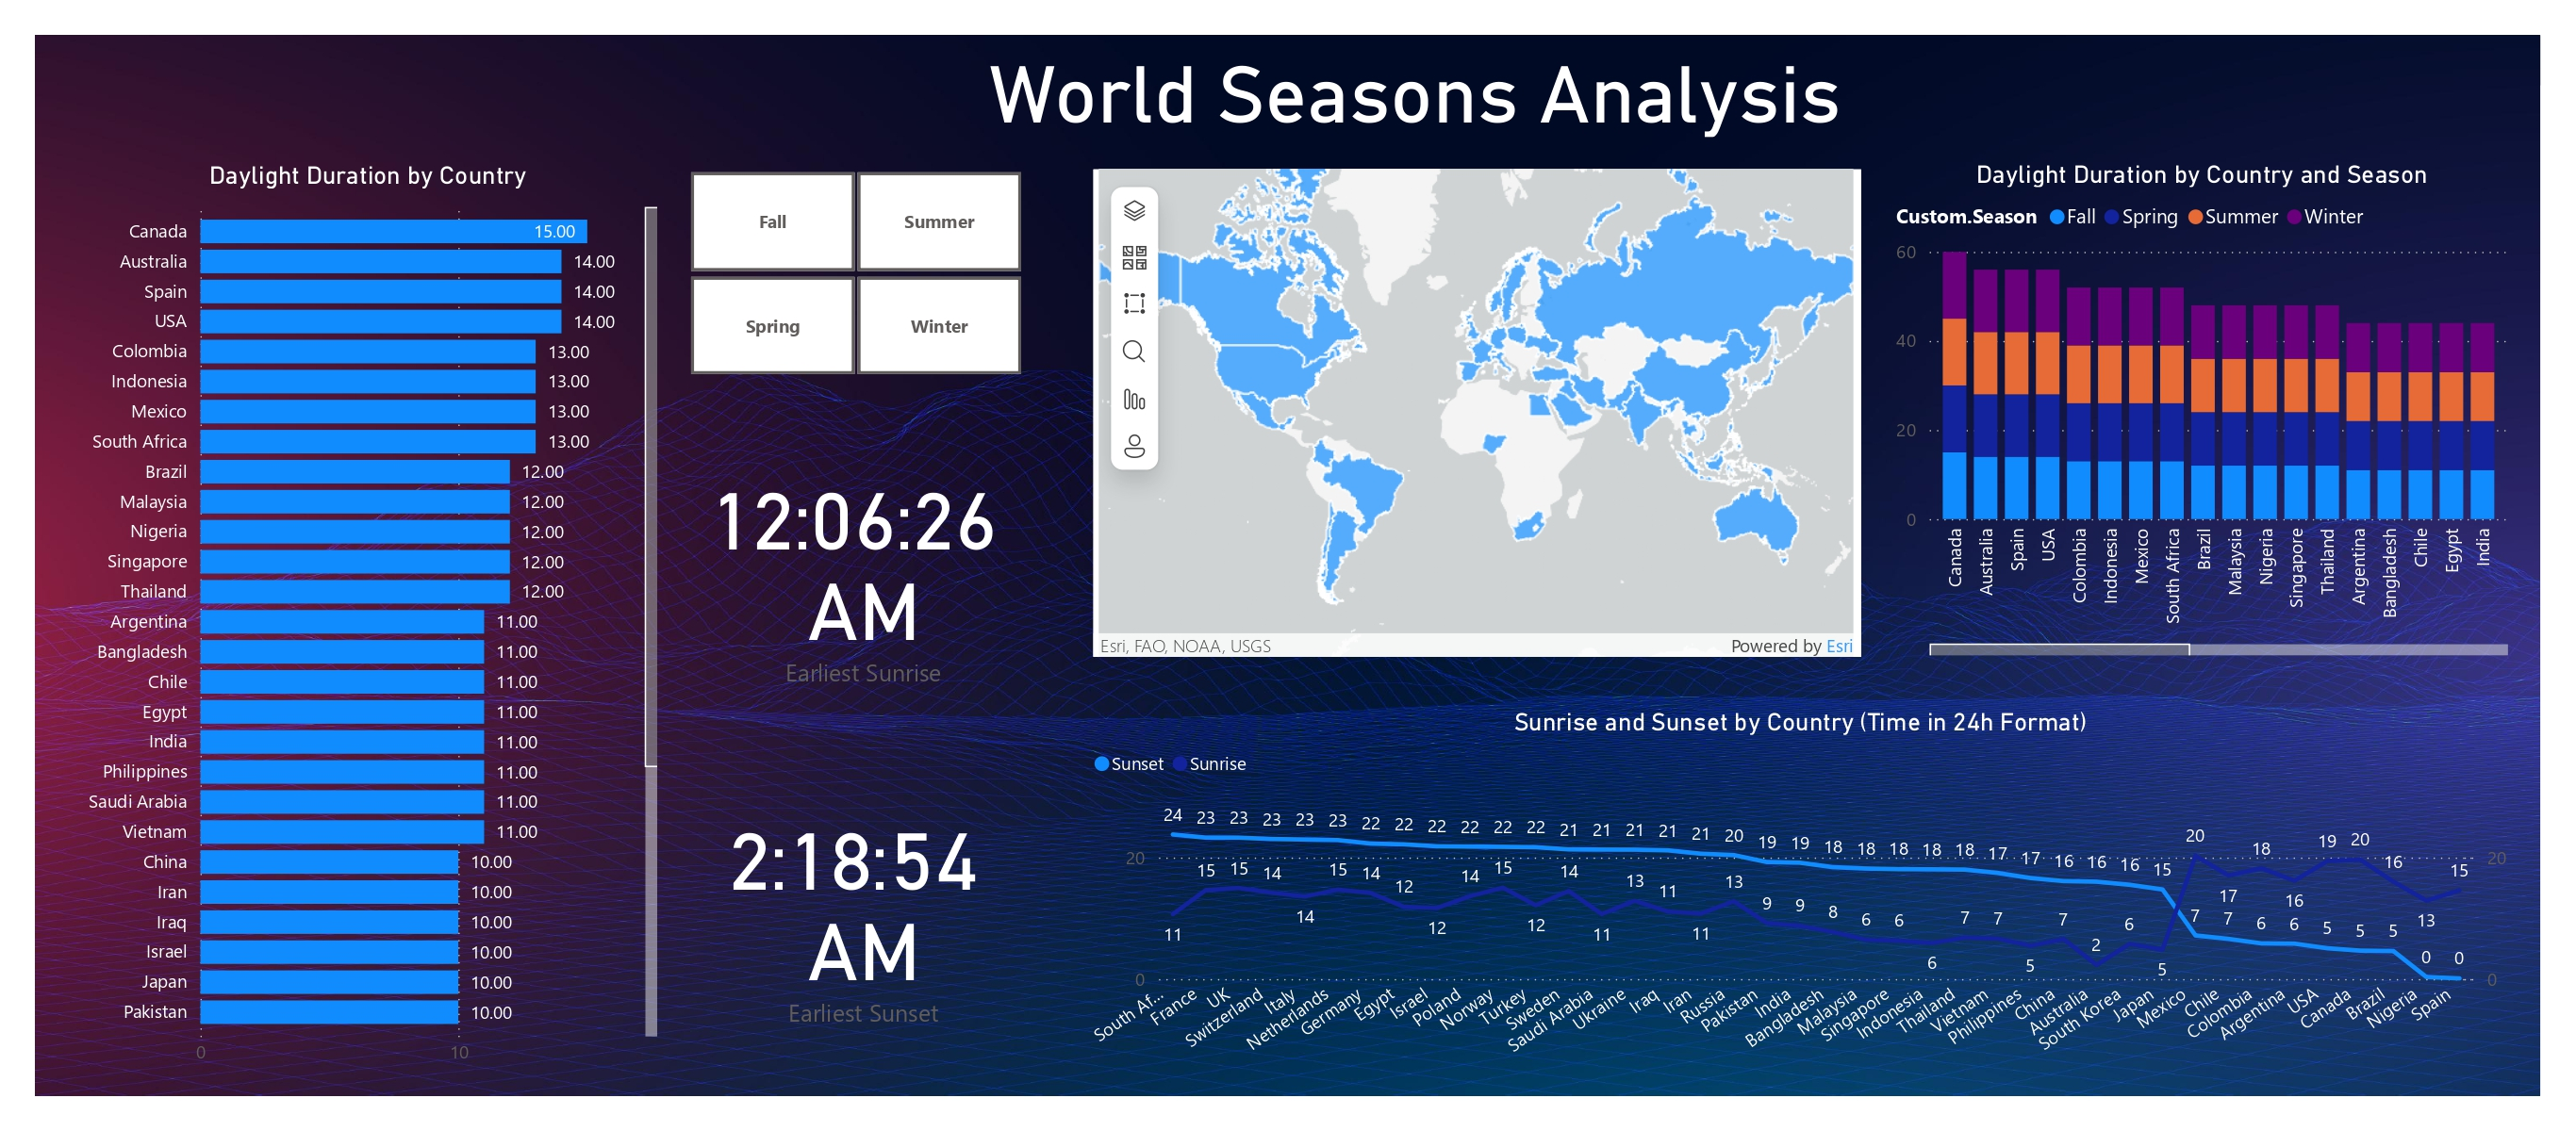

This screenshot's page, from the dashboard's own definition file:
{"tool":"powerbi","page":{"name":"Dashboard","canvas":[1700,720],"ordinal":0},"visuals":[{"type":"barChart","title":"Daylight Duration by Country","fields":{"Category":["Sheet1.Country"],"Y":["Avg(Sheet1.Daylight Duration)"]},"box":[24.5,84.5,402.2,624.5],"z":0},{"type":"lineChart","title":"Sunrise and Sunset by Country (Time in 24h Format)","fields":{"Category":["Sheet1.Country"],"Y":["Avg(Sheet1.SunriseDecimal)"],"Y2":["Avg(Sheet1.SunsetDecimal)"]},"box":[712.6,455.6,969.6,253.3],"z":1000},{"type":"columnChart","title":"Daylight Duration by Country and Season","fields":{"Category":["Sheet1.Country"],"Y":["Avg(Sheet1.Daylight Duration)"],"Series":["Sheet1.Custom.Season"]},"box":[1258.3,84.4,424.3,341.2],"z":2000},{"type":"esriVisual","fields":{"Location":["CountryTable.Country"]},"box":[712.9,85.6,530.7,341.2],"z":5000},{"type":"slicer","title":"Seasons","fields":{"Values":["Sheet1.Custom.Season"]},"box":[419.2,85.7,273.4,151.3],"z":5001},{"type":"card","fields":{"Values":["Min(MianTable.Sunrise)"]},"box":[426.5,271.5,271.5,184.1],"z":5002},{"type":"card","fields":{"Values":["Min(MianTable.Sunset)"]},"box":[426.5,481.1,271.5,227.8],"z":5003},{"type":"card","fields":{"Values":["Min(MianTable.DashboardTitle)"]},"box":[613.1,13.9,645.5,60.2],"z":5005}]}

Visuals, with their boxes on the page's 1700x720 design canvas (x1, y1, x2, y2). These are canvas units, not pixel positions in the 2576x1131 screenshot, which may show the page scaled, cropped or inside an application window:
"Daylight Duration by Country" barChart: {"left": 24, "top": 84, "right": 427, "bottom": 709}
"Sunrise and Sunset by Country (Time in 24h Format)" lineChart: {"left": 713, "top": 456, "right": 1682, "bottom": 709}
"Daylight Duration by Country and Season" columnChart: {"left": 1258, "top": 84, "right": 1683, "bottom": 426}
esriVisual - CountryTable.Country: {"left": 713, "top": 86, "right": 1244, "bottom": 427}
"Seasons" slicer: {"left": 419, "top": 86, "right": 693, "bottom": 237}
card - Min(MianTable.Sunrise): {"left": 426, "top": 272, "right": 698, "bottom": 456}
card - Min(MianTable.Sunset): {"left": 426, "top": 481, "right": 698, "bottom": 709}
card - Min(MianTable.DashboardTitle): {"left": 613, "top": 14, "right": 1259, "bottom": 74}
